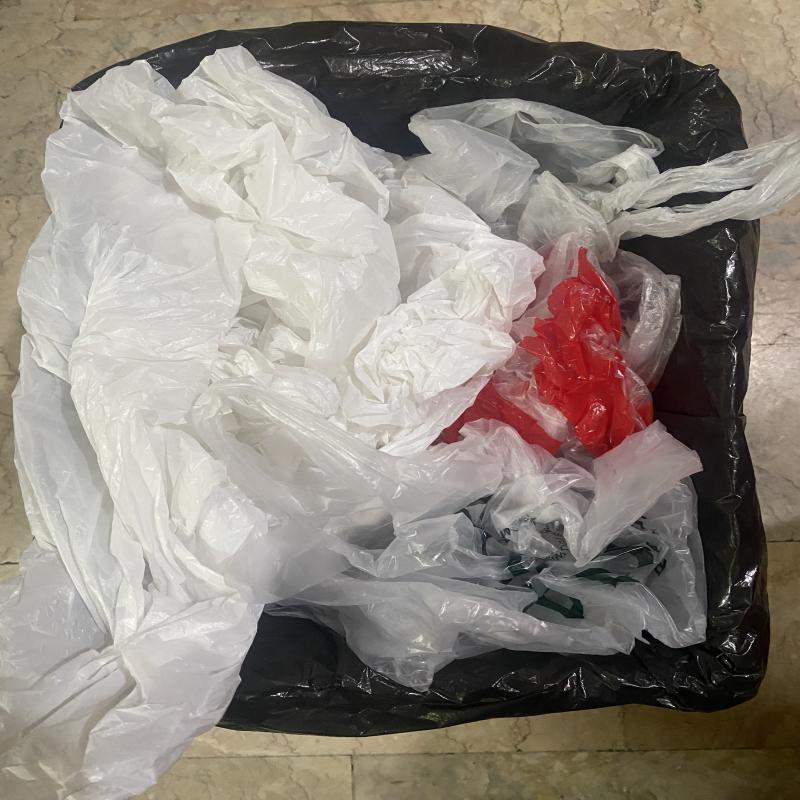plastic bag: (0, 47, 544, 800), (185, 386, 708, 693), (408, 98, 800, 262), (431, 235, 683, 475)
